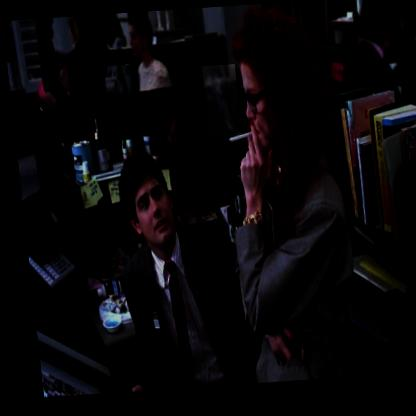smoke: (200, 67, 239, 140)
